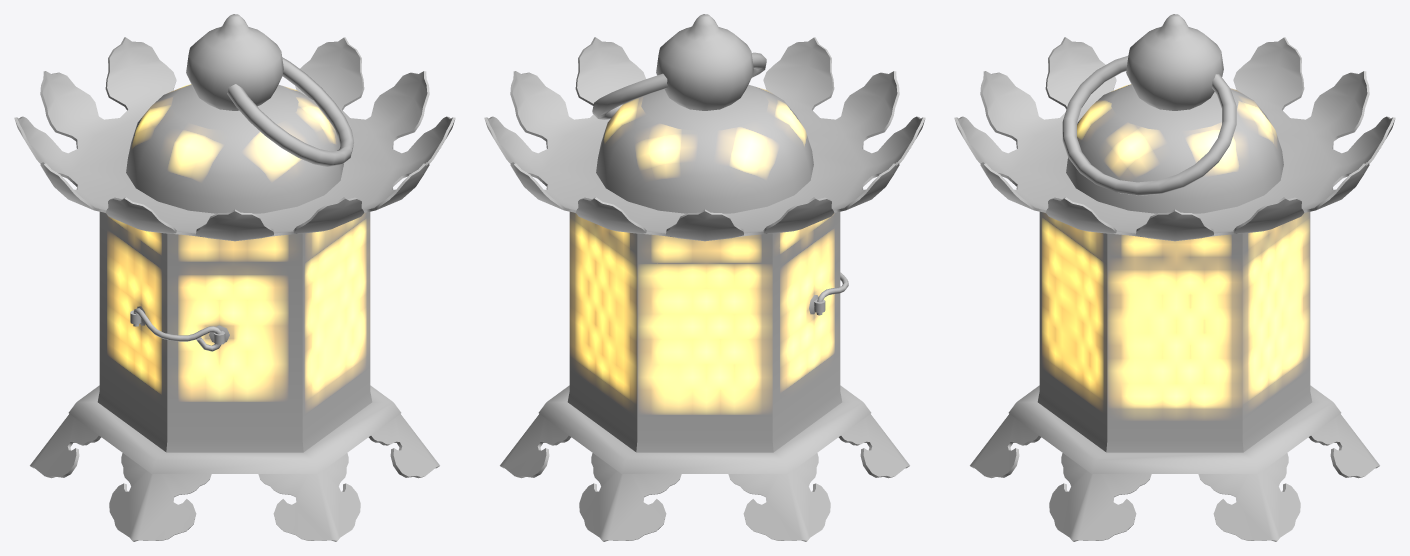
File: SM_Lantern.fbx
3 renders of one model, left to right at view 1: azimuth 30°, elevation 25°; view 2: azimuth 150°, elevation 25°; view 3: azimuth 270°, elevation 25°, orthographic.
Parts seen in each view (by area): view 1: SM_Lantern_LOD0; view 2: SM_Lantern_LOD0; view 3: SM_Lantern_LOD0.
Boxes of the visible parts, left/top/right/bottom form: SM_Lantern_LOD0: left=14, top=14, right=455, bottom=541; SM_Lantern_LOD0: left=484, top=14, right=925, bottom=541; SM_Lantern_LOD0: left=954, top=14, right=1395, bottom=541.
Bounding box in the file's own units: 27.23 × 27.23 × 30.77.
